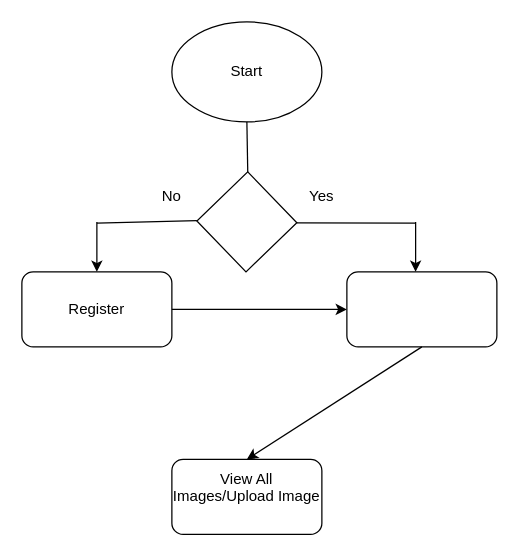
Some shapes in this 519 by 556 pixel diagram are drawn without their labels. The shapes that lost their labels are listed below. From the top down, each one's centre as x and y in pixels, then its label:
point 246,221: Have An Account?
point 421,309: Login
